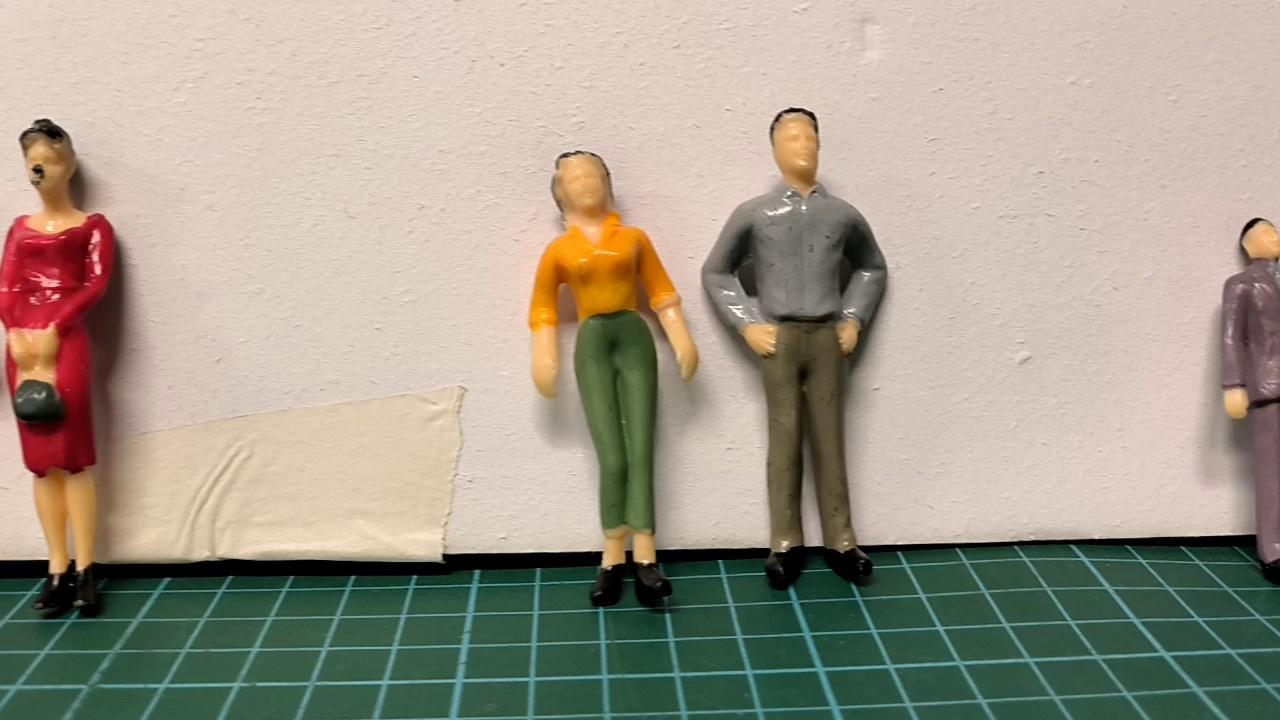human: (700, 103, 911, 600), (523, 138, 699, 621), (0, 109, 130, 620), (1205, 212, 1280, 585)
